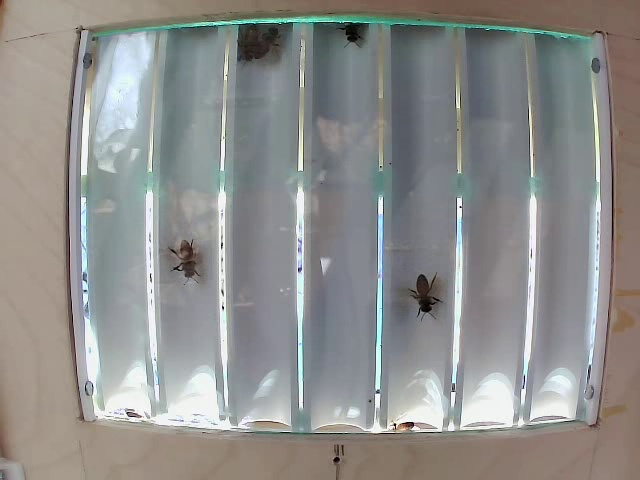bee: (166, 232, 210, 278), (407, 274, 448, 319), (330, 17, 361, 45), (255, 28, 275, 65)
